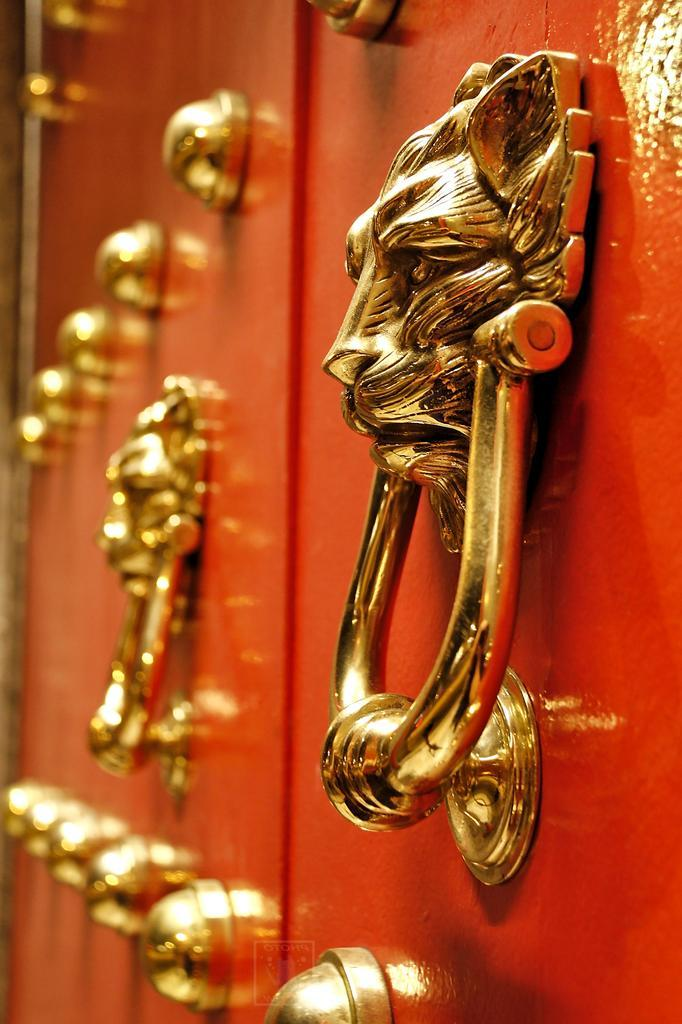door: (304, 10, 679, 1024), (0, 11, 298, 1024)
handle: (313, 363, 534, 849), (65, 589, 168, 798)
